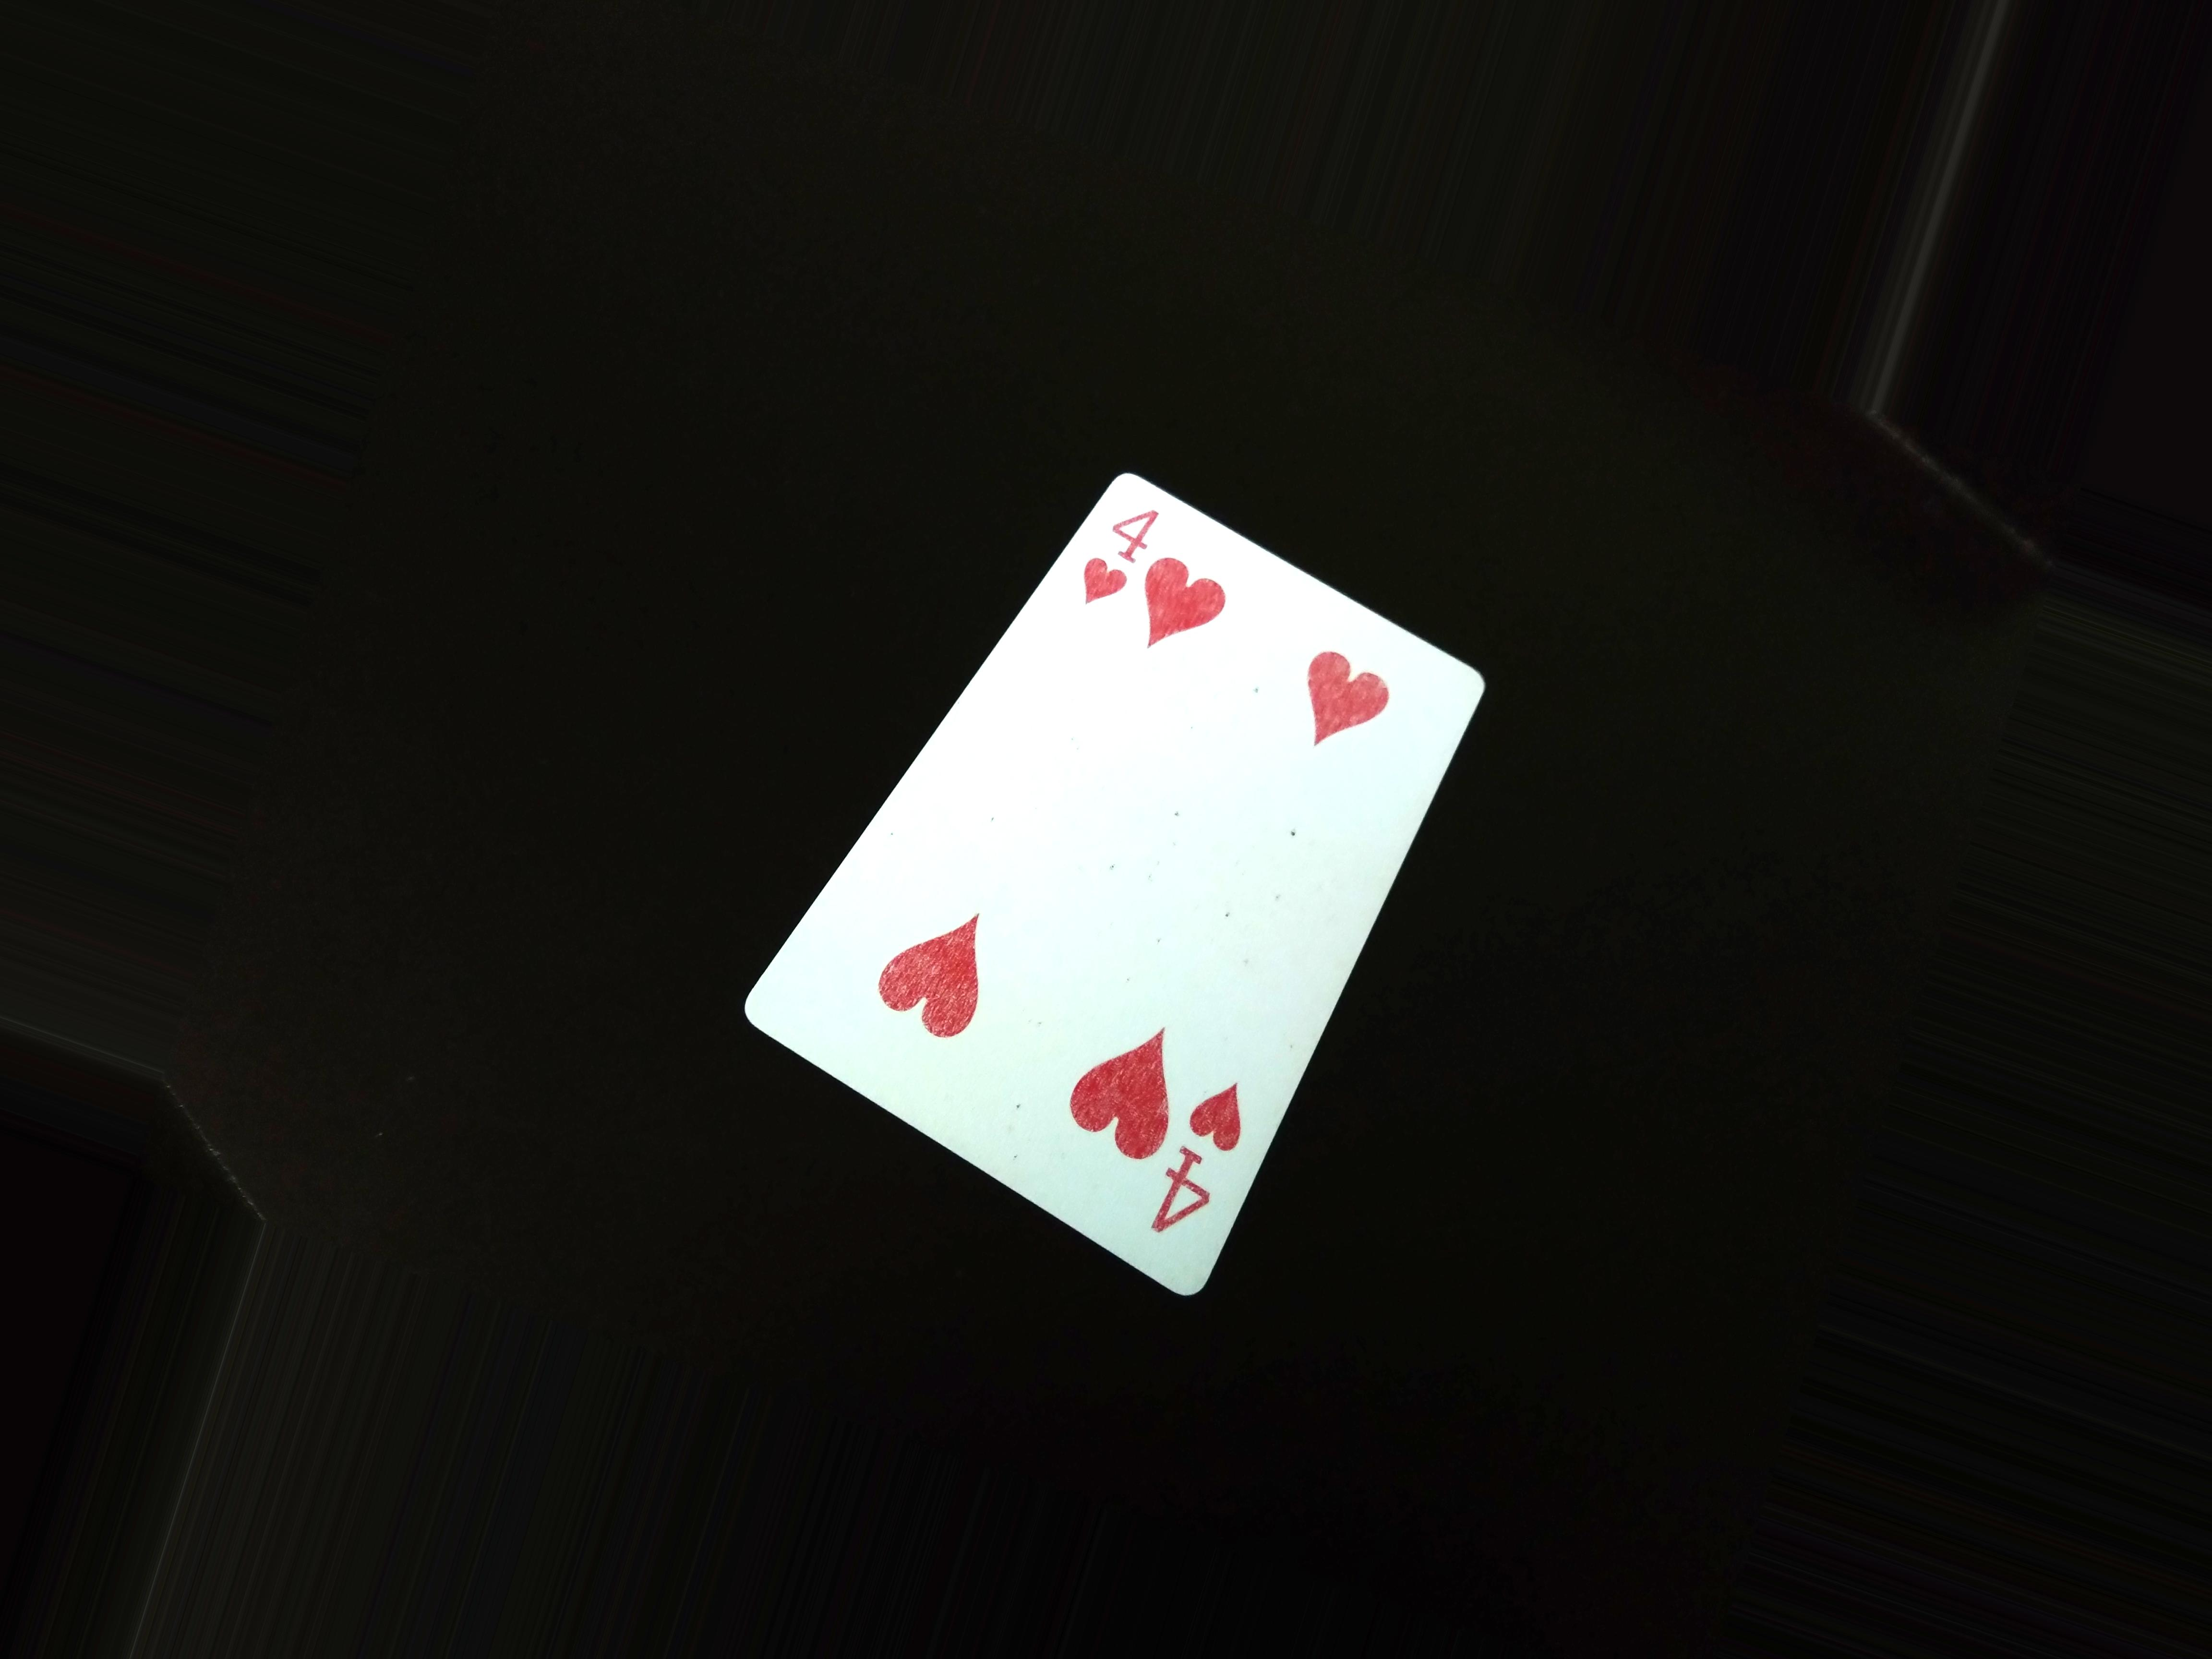4H: (1158, 1053, 1270, 1248)
